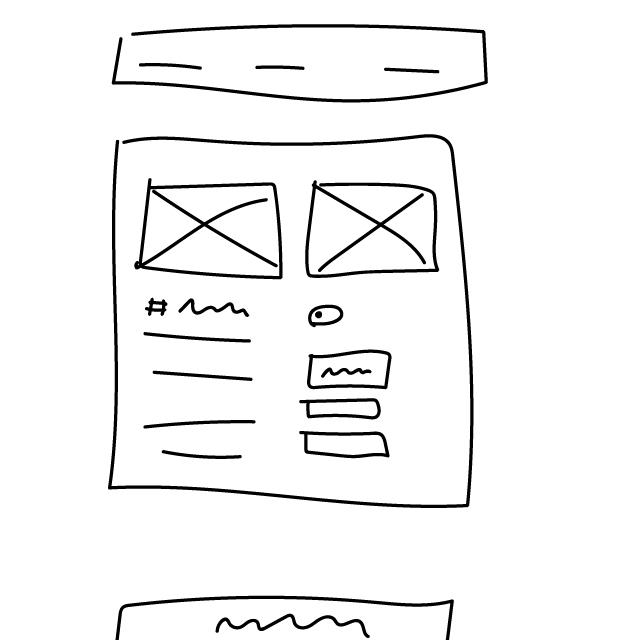button: (306, 346, 395, 393)
checkbox: (307, 306, 348, 328)
container: (100, 129, 484, 520)
footer: (108, 589, 468, 640)
frame: (131, 175, 288, 285), (304, 177, 448, 285)
heading: (143, 295, 253, 326)
input: (296, 425, 395, 462), (299, 397, 385, 422)
nav: (105, 20, 500, 110)
text: (142, 329, 267, 466)
